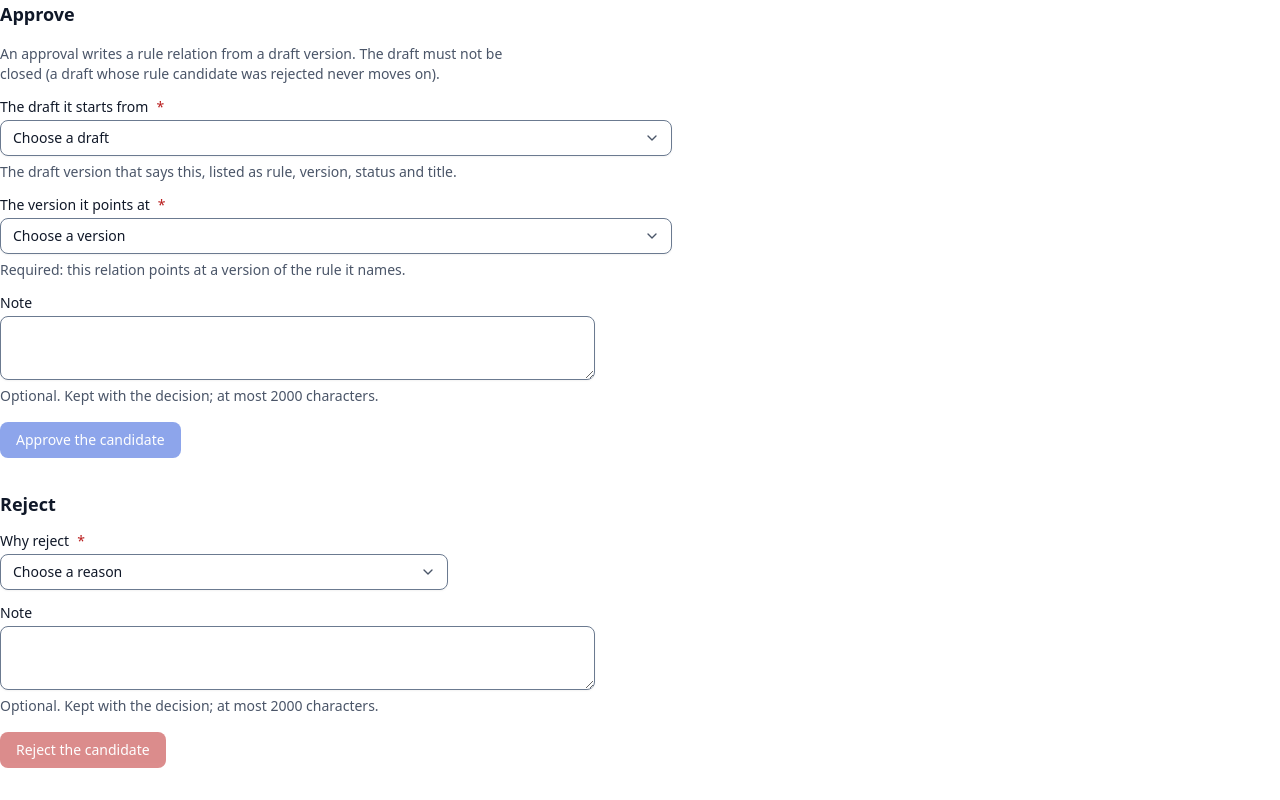
it: CandidateDecisions › rejects with a reason and shows the rulebook's refusal
Expected: the button "Reject the candidate" is disabled, [0,732,166,768]
Select "A duplicate" in the dropdown labelled "Why reject *" at (224, 572), box [0,554,448,590]
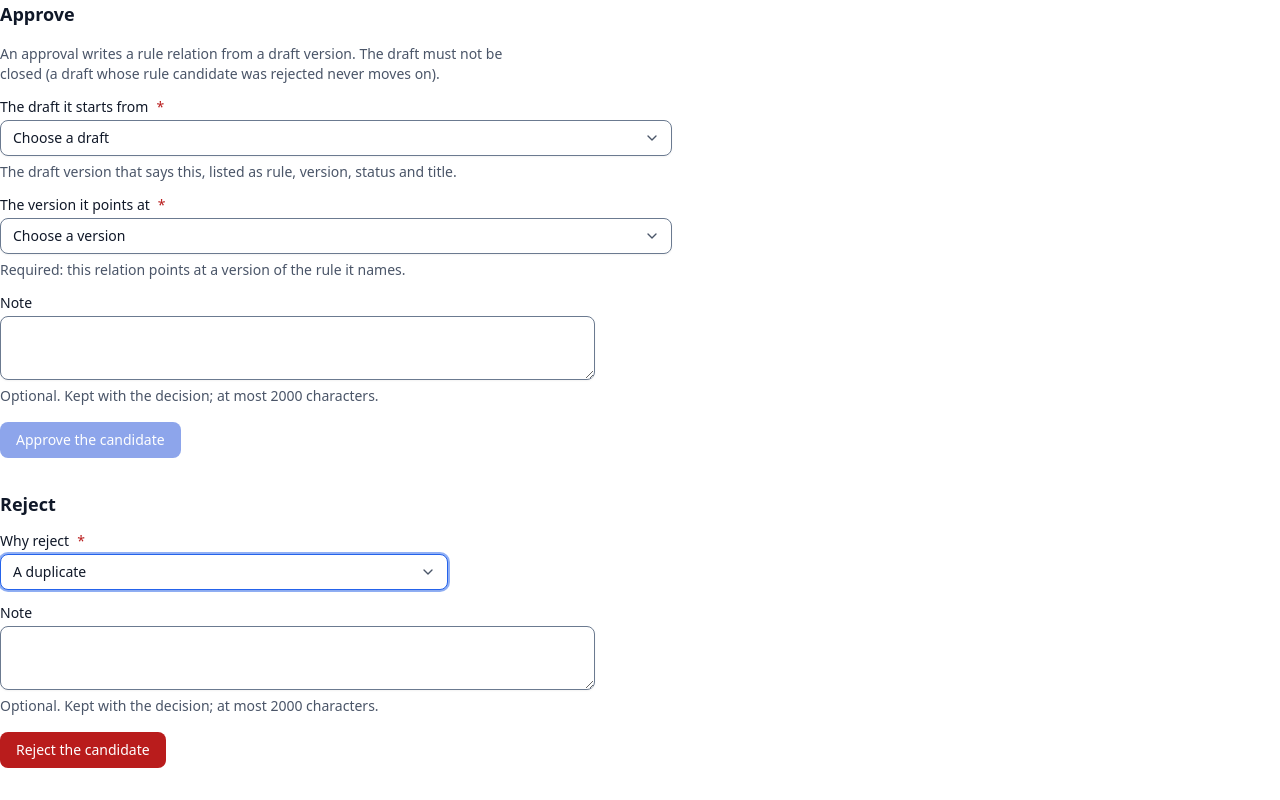
Type "Example note" into the text box labelled "Note" below "Why reject" at (297, 658), box [0,626,595,690]
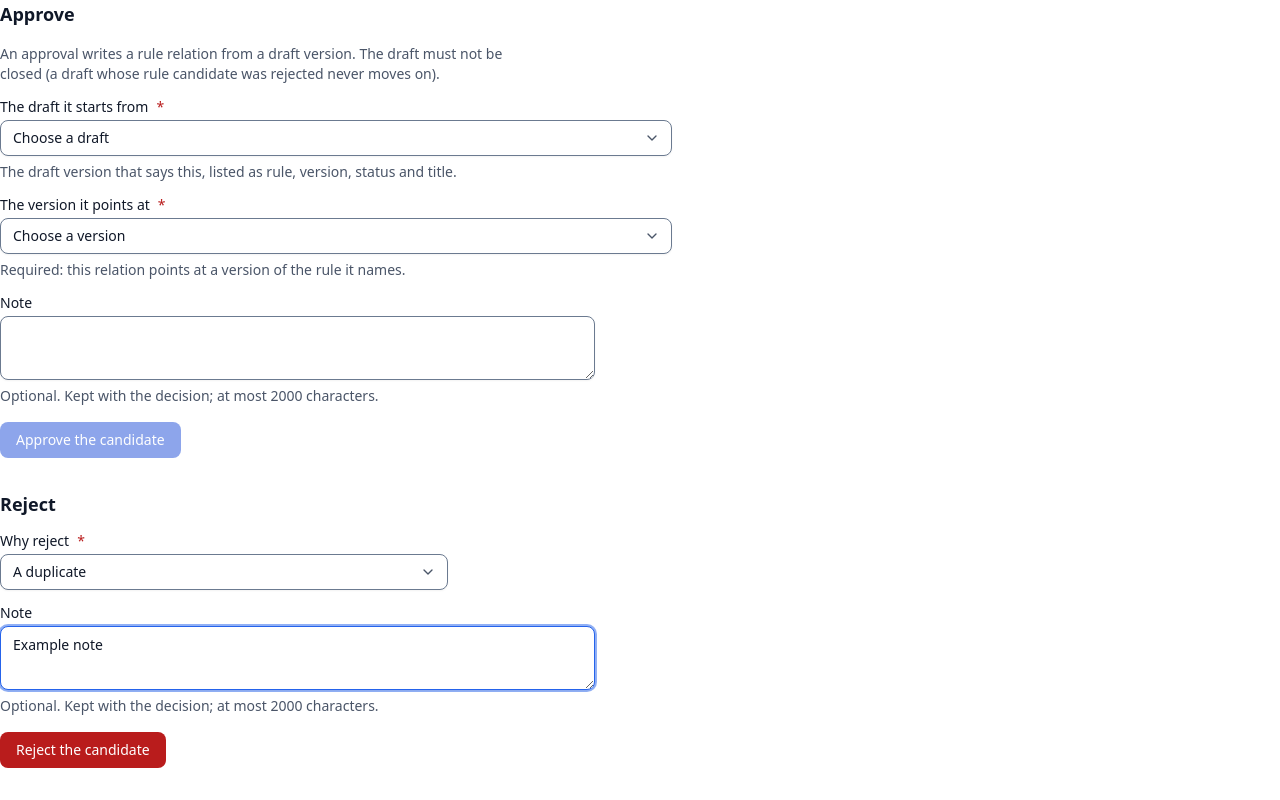
Click the button "Reject the candidate" at (83, 750), box [0,732,166,768]
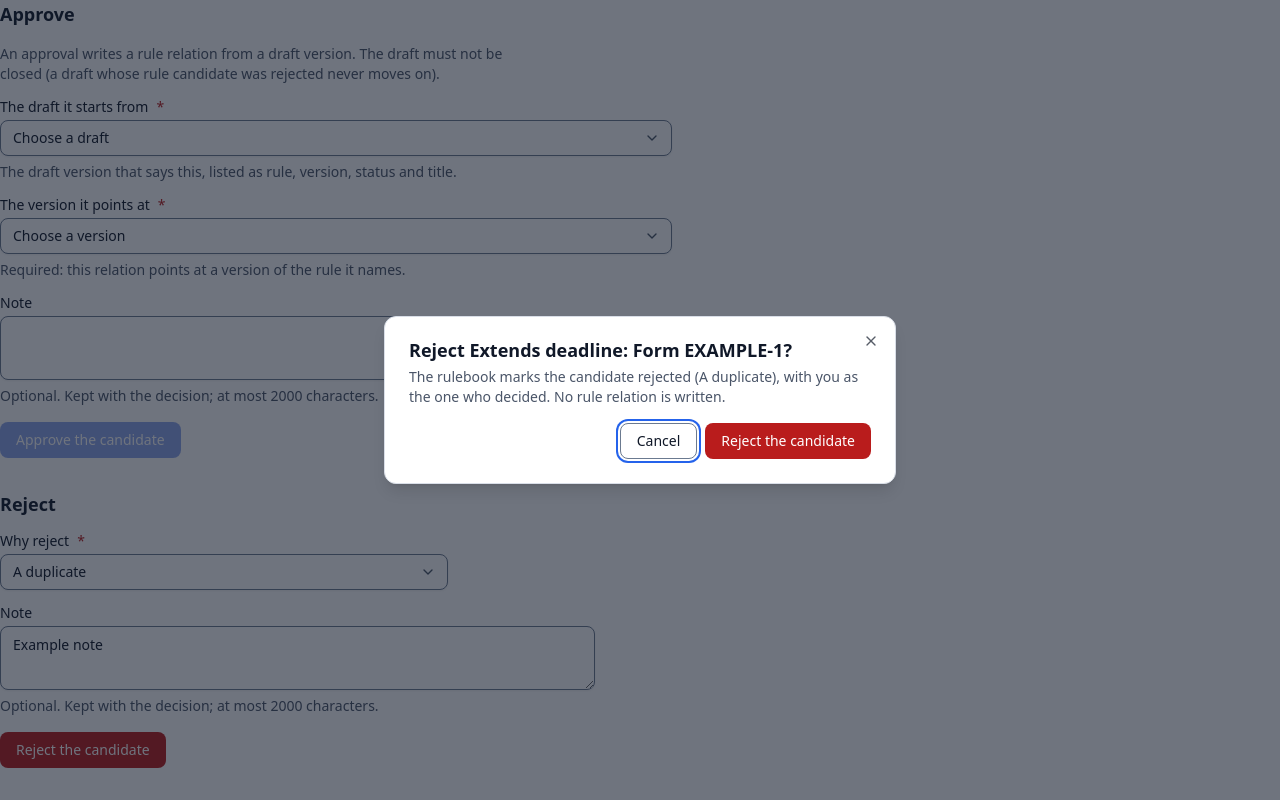
Result: the dialog "Reject Extends deadline: Form EXAMPLE-1?" shows "rejected (A duplicate)" at [409,367,858,406]
Click the button "Reject the candidate" at (788, 441), box [705,423,871,459]
(page scrolled)
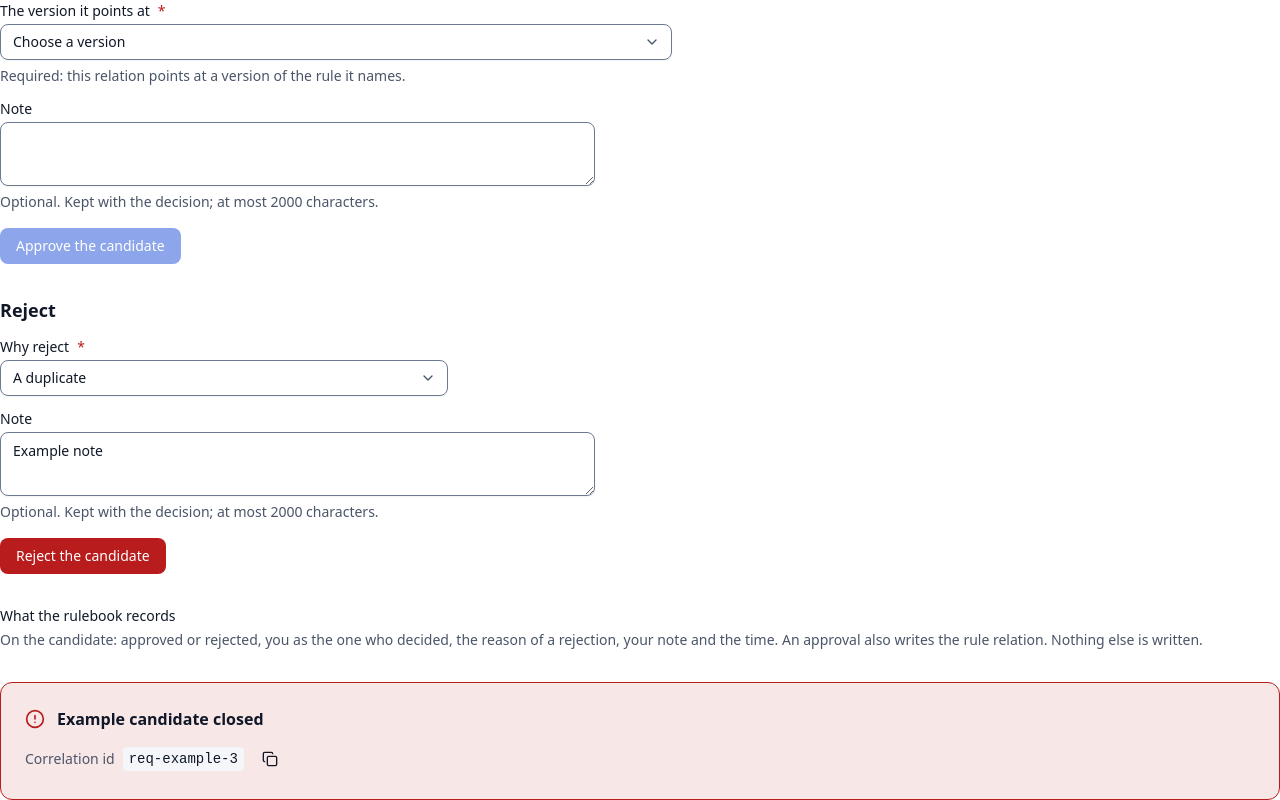
Result: the text "Example candidate closed" is shown at [57,708,264,730]
Result: the text "req-example-3" is shown at [123,747,244,771]
